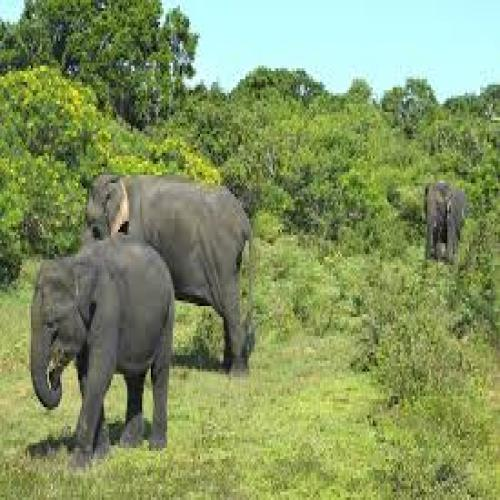asian_elephant-endangered: (85, 176, 258, 367), (30, 241, 176, 452), (425, 183, 464, 265)
